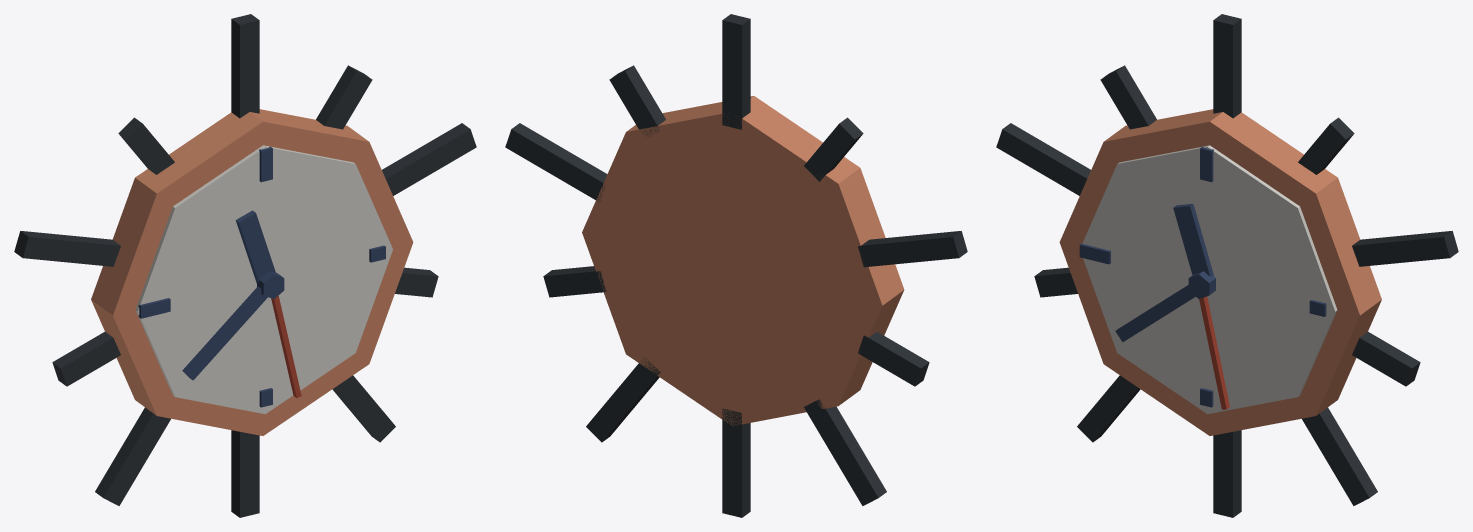
The model's file is wall-clock-38.glb.
The picture shows the model from 3 angles, left to right: view 1: azimuth 30°, elevation 25°; view 2: azimuth 150°, elevation 25°; view 3: azimuth 330°, elevation 25°; orthographic projection.
Visible parts, largest first — view 1: wall_clock_38; view 2: wall_clock_38; view 3: wall_clock_38.
Boxes of the visible parts, x1=… form: wall_clock_38: x1=14, y1=14, x2=476, y2=517; wall_clock_38: x1=505, y1=14, x2=967, y2=517; wall_clock_38: x1=996, y1=14, x2=1458, y2=517.
Size of the model in its own units: 0.4599 by 0.4771 by 0.0575.
